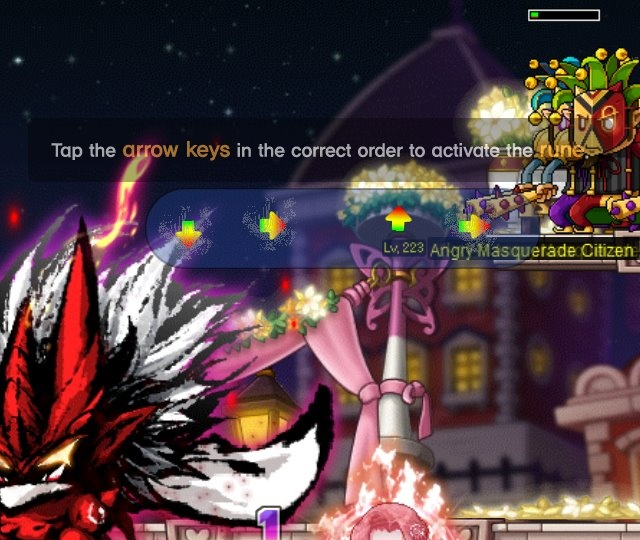rune_box: (135, 182, 549, 277)
